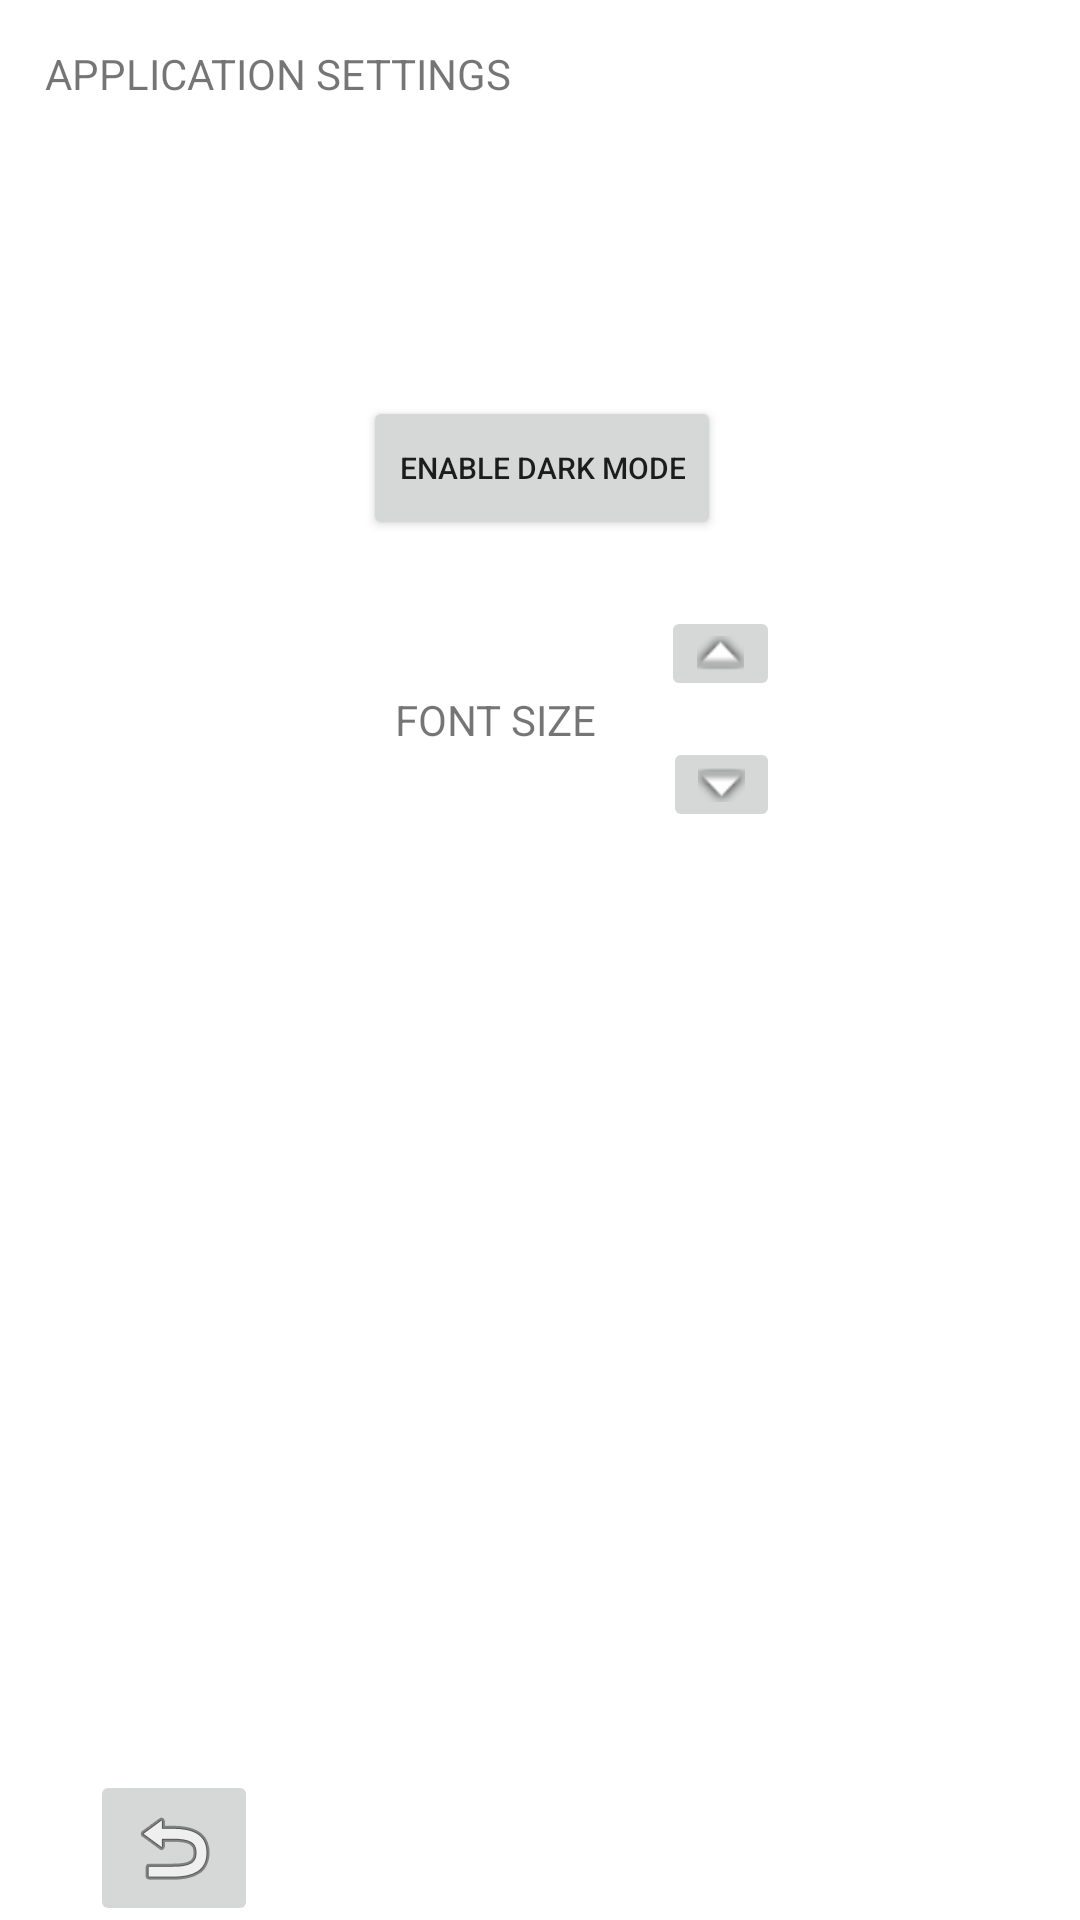

Point at icon controls on the screen. Image size 1080×1920, points as point (x, y).
arrow down float: point (721, 784)
arrow up float: point (720, 653)
revert: point (174, 1848)
